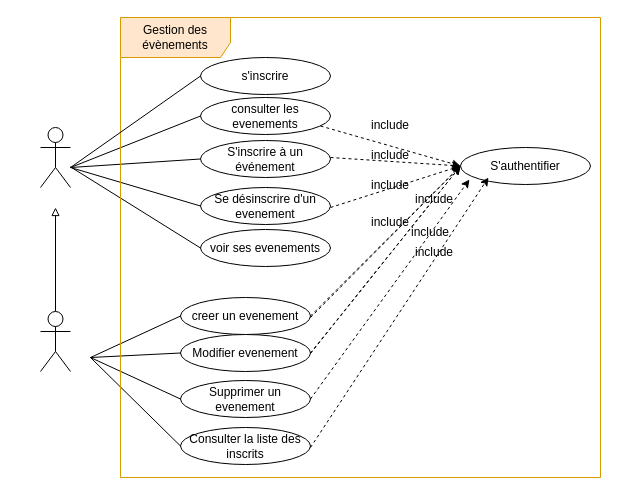
Some shapes in this 618 by 495 pixel diagram are drawn without their labels. The centre of each missing label's shape, as x and y in pixels:
"administrateur" belongs at (55,341).
"utilisateur" belongs at (55,157).
